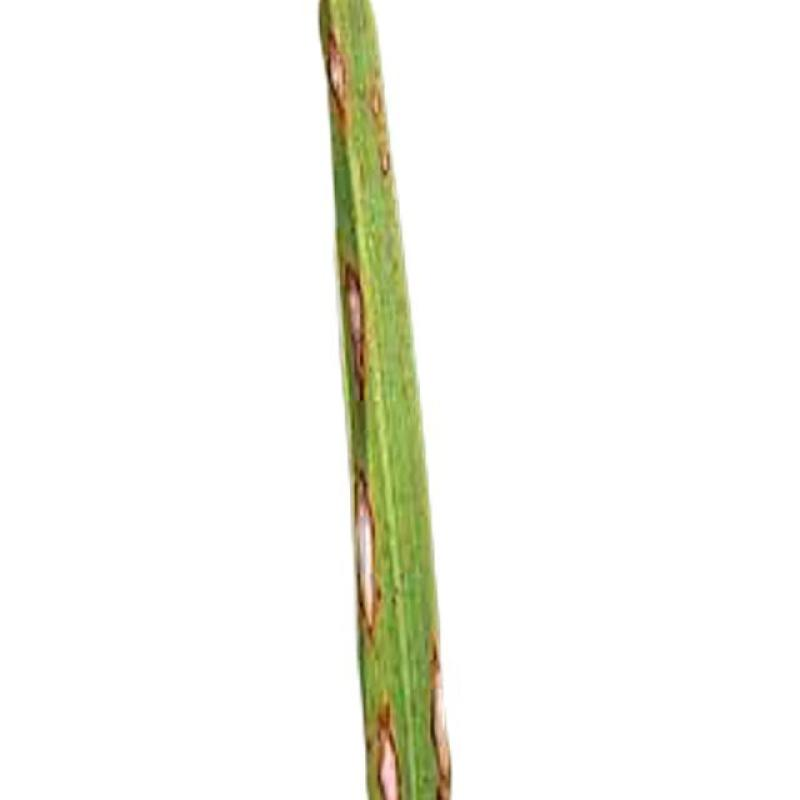Leaf_Blast: (320, 198, 396, 407), (340, 465, 406, 644), (305, 3, 369, 145), (352, 692, 426, 800)
